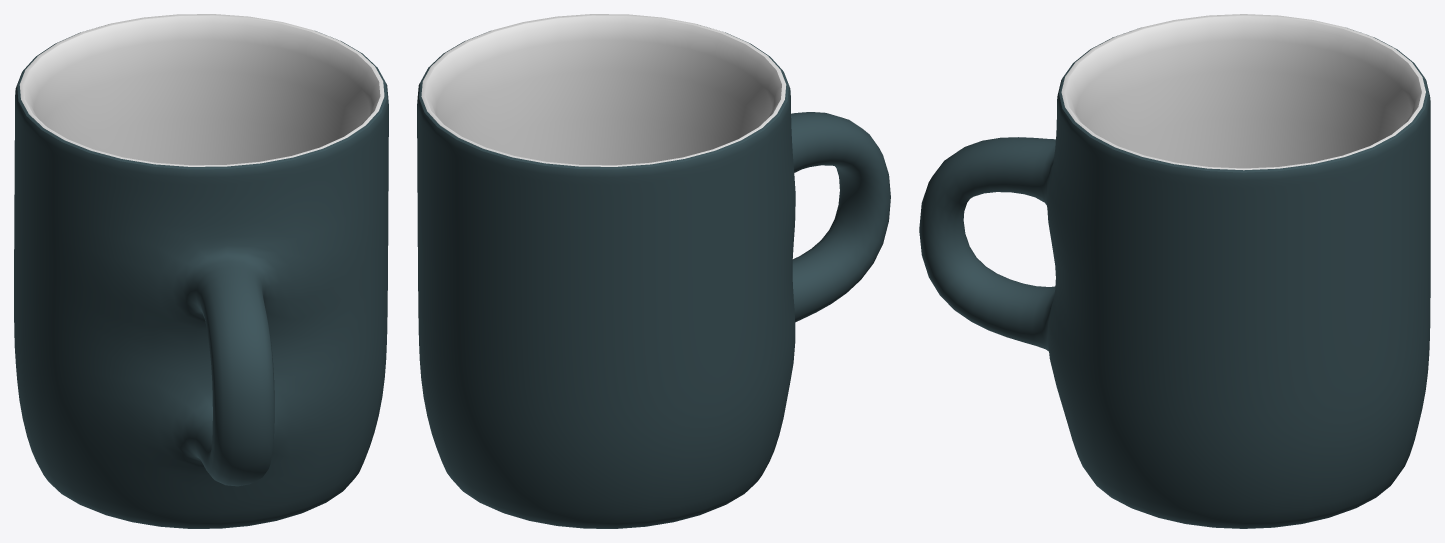
Rendered from mug.glb.
3 views of the same model, side by side, from view 1: azimuth 30°, elevation 25°; view 2: azimuth 150°, elevation 25°; view 3: azimuth 270°, elevation 25° (orthographic).
Parts seen in each view (by area): view 1: caneca; view 2: caneca; view 3: caneca.
Part boxes in pixels (x1,y1,x2,y2): caneca: (14, 14, 388, 528); caneca: (417, 14, 890, 528); caneca: (919, 14, 1430, 528).
Size of the model in its own units: 181 by 200 by 247.
